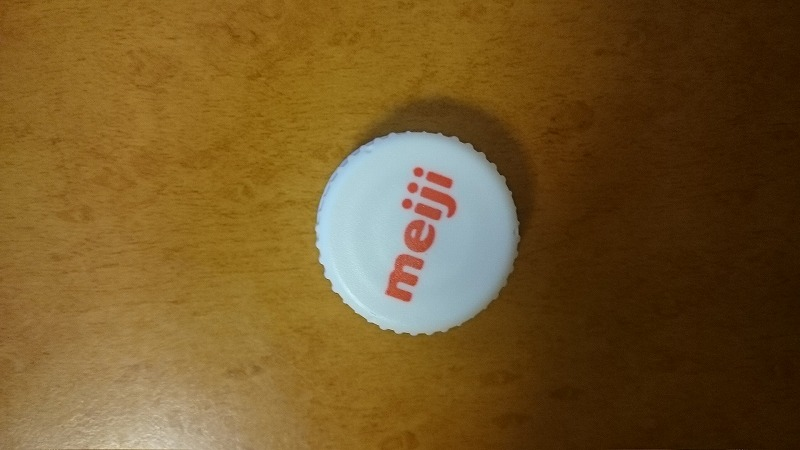B: (307, 124, 528, 343)
